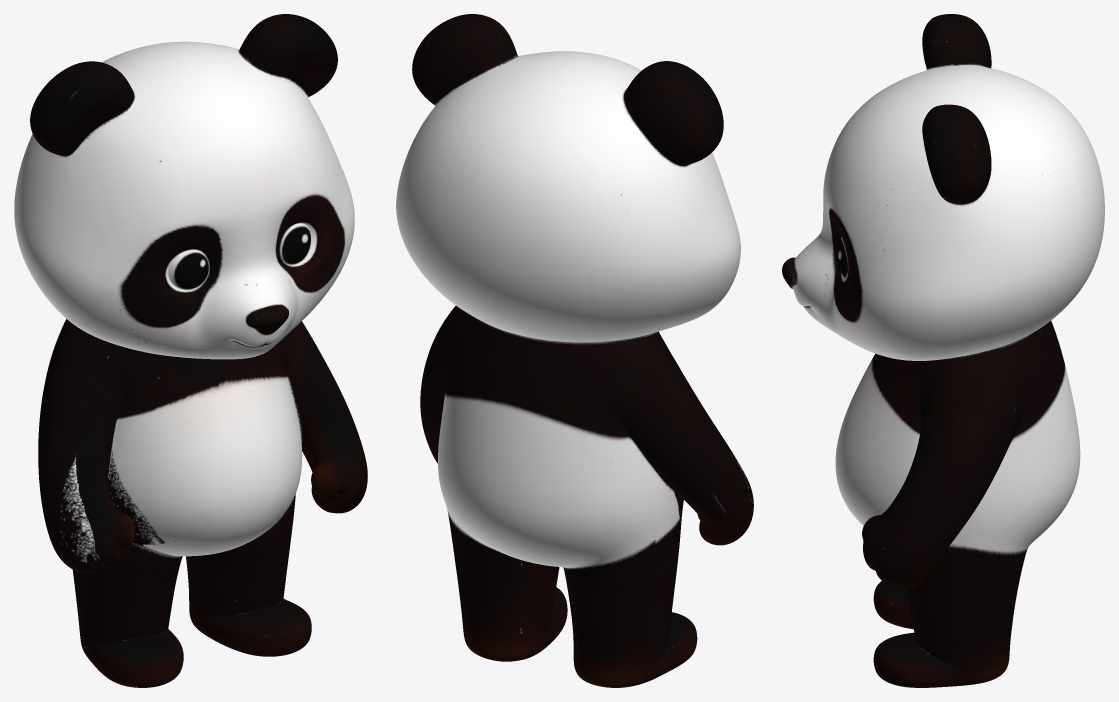
The model's file is panda_opt.glb.
The picture shows the model from 3 angles, left to right: view 1: azimuth 30°, elevation 25°; view 2: azimuth 150°, elevation 25°; view 3: azimuth 270°, elevation 25°; orthographic projection. The views are drawn at different scales.
Parts seen in each view (by area): view 1: world; view 2: world; view 3: world.
Part boxes in pixels (<box>): world: <box>14,14,367,687</box>; world: <box>396,14,753,687</box>; world: <box>782,14,1104,687</box>.
Size of the model in its own units: 1.06 by 2 by 1.
Materials: 1 (1 with a texture image).
